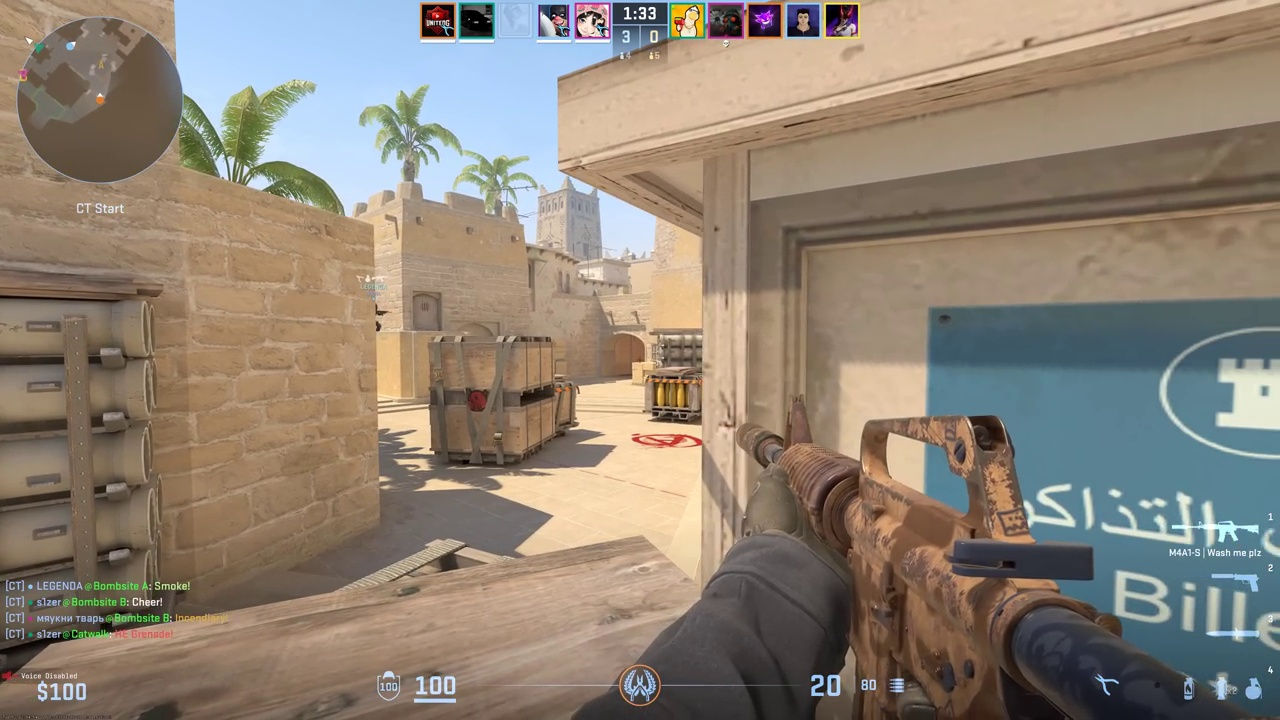CT: (376, 303, 383, 331)
